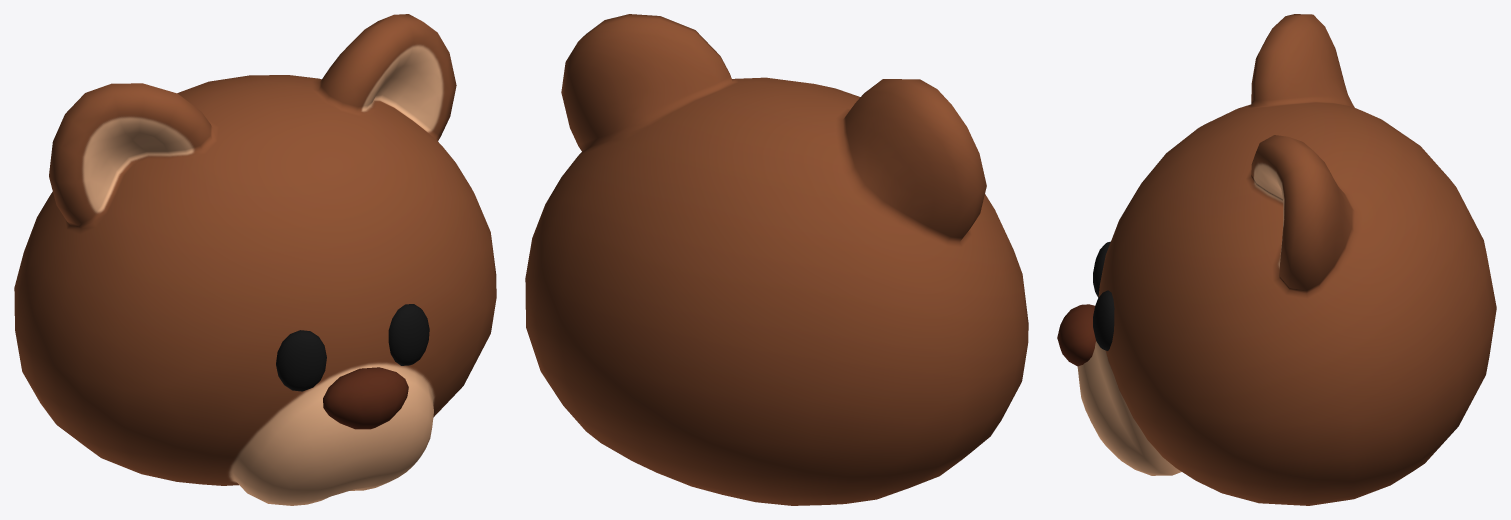
3 renders of one model, left to right at view 1: azimuth 30°, elevation 25°; view 2: azimuth 150°, elevation 25°; view 3: azimuth 270°, elevation 25°, orthographic. The views are drawn at different scales.
Parts seen in each view (by area): view 1: BearHead; view 2: BearHead; view 3: BearHead.
Boxes of the visible parts, <box> form: BearHead: <box>14,14,496,505</box>; BearHead: <box>525,14,1028,505</box>; BearHead: <box>1057,14,1496,505</box>.
Bounding box in the file's own units: 0.7836 × 0.6955 × 0.7155.
1 material, 1 textured.
